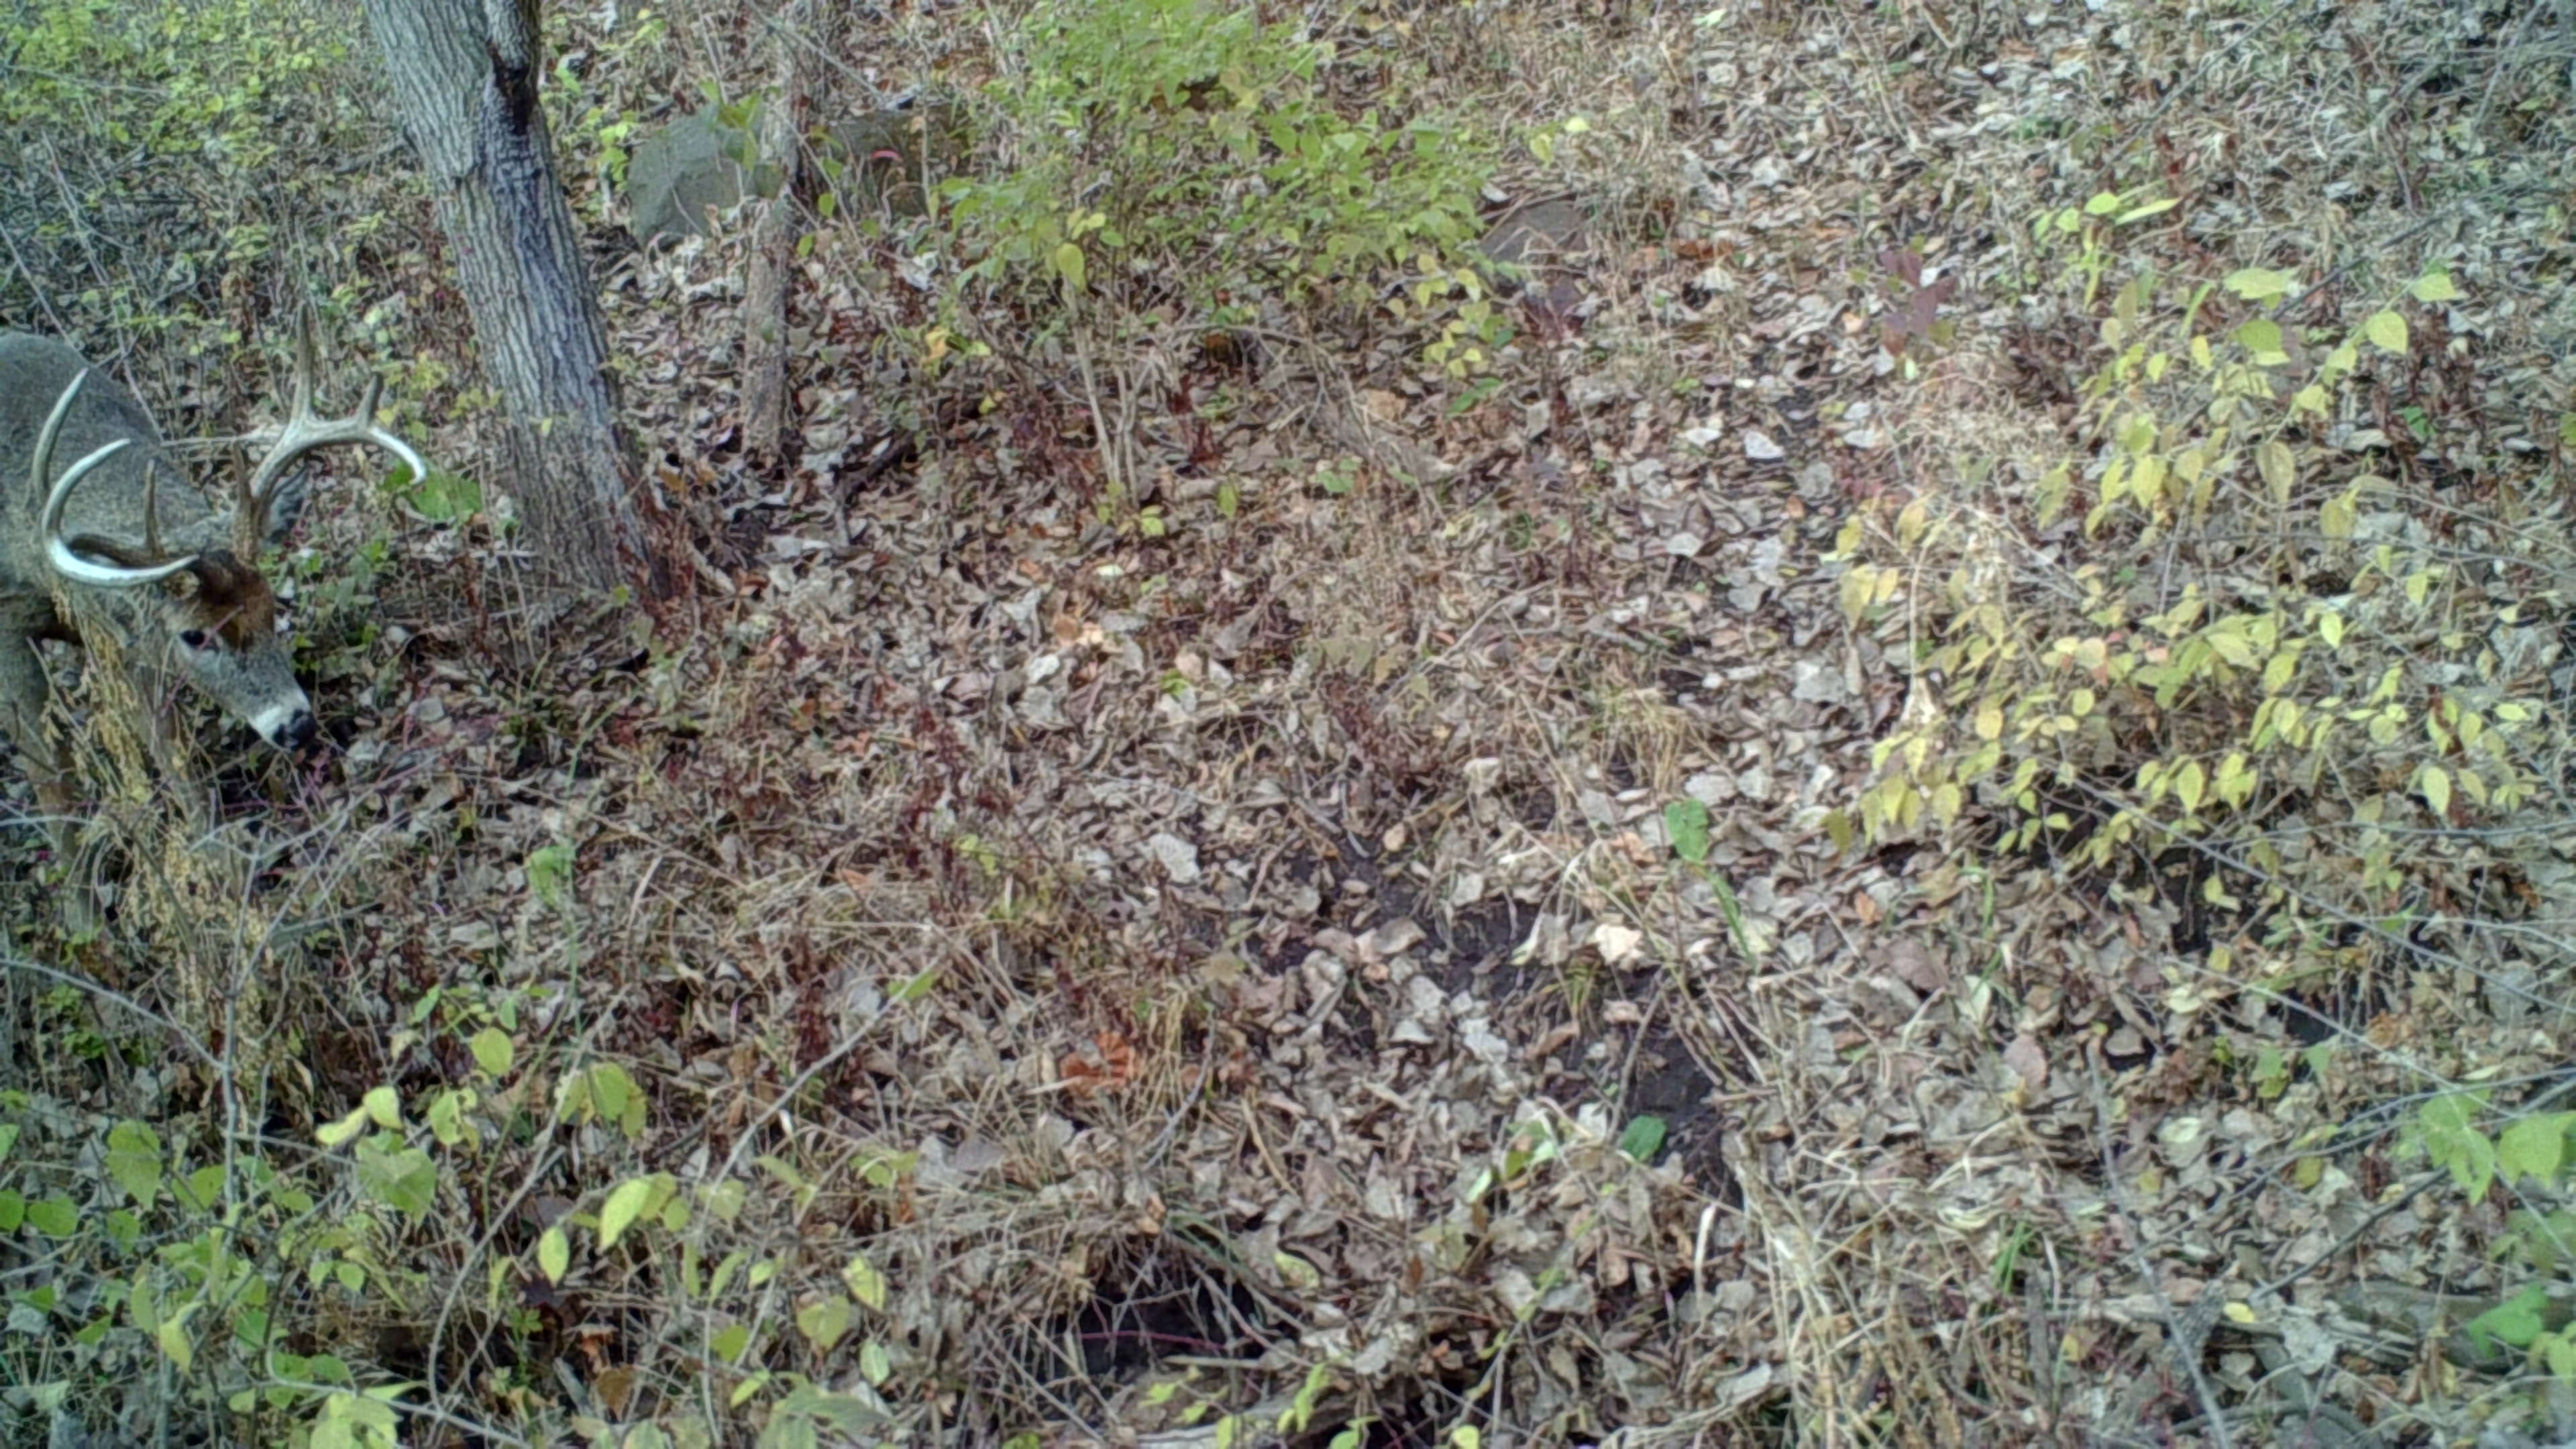DeerBuck: (1, 297, 431, 770)
DeerBuckHead: (15, 297, 429, 749)
